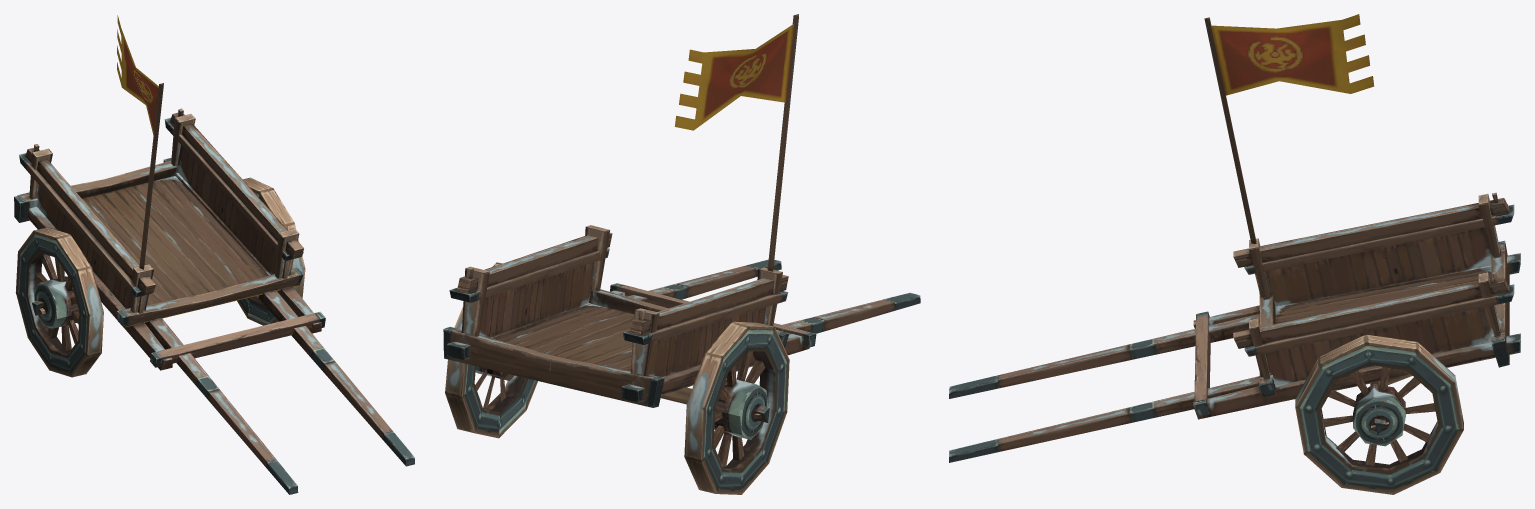
The picture shows the model from 3 angles, left to right: view 1: azimuth 30°, elevation 25°; view 2: azimuth 150°, elevation 25°; view 3: azimuth 270°, elevation 25°; orthographic projection. The views are drawn at different scales.
Parts seen in each view (by area): view 1: BX2-7; view 2: BX2-7; view 3: BX2-7.
Boxes of the visible parts, box(x1,y1,x2,y2) form: BX2-7: box(14, 15, 414, 494); BX2-7: box(443, 14, 920, 494); BX2-7: box(949, 14, 1520, 494).
Size of the model in its own units: 209 by 279 by 367.
Materials: 1 (1 with a texture image).
